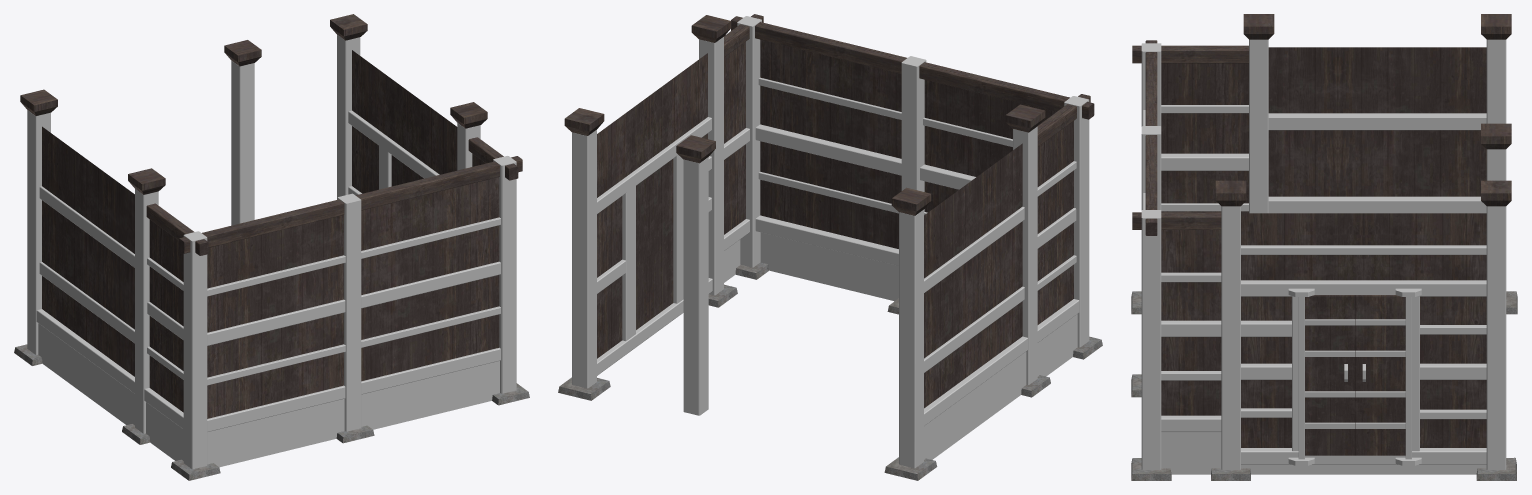
The model's file is SM_Building_Wall_1.FBX.
3 renders of one model, left to right at view 1: azimuth 30°, elevation 25°; view 2: azimuth 150°, elevation 25°; view 3: azimuth 270°, elevation 25°, orthographic. The views are drawn at different scales.
Visible parts, largest first — view 1: SM_Building_Wall_1; view 2: SM_Building_Wall_1; view 3: SM_Building_Wall_1.
Boxes of the visible parts, x1=… form: SM_Building_Wall_1: x1=14, y1=14, x2=529, y2=480; SM_Building_Wall_1: x1=558, y1=14, x2=1102, y2=480; SM_Building_Wall_1: x1=1131, y1=14, x2=1517, y2=480.
Size of the model in its own units: 860 by 623 by 765.
